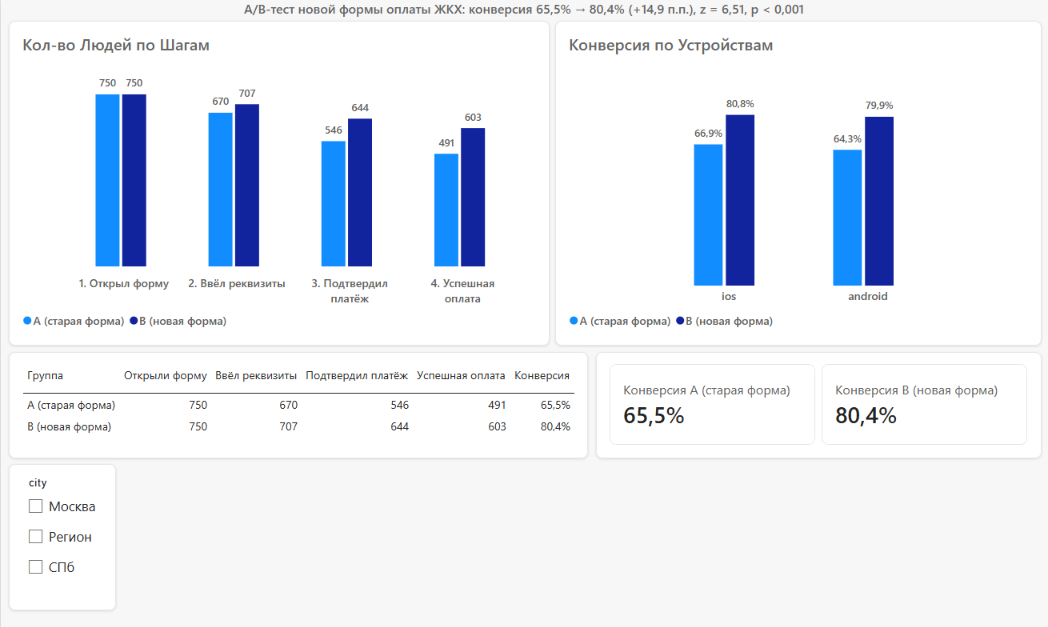

The page's visual inventory and layout, read from the dashboard file:
{"tool":"powerbi","page":{"name":"Страница 1","canvas":[1920,1080],"ordinal":0},"visuals":[{"type":"tableEx","fields":{"Values":["payments.Группа","payments.Открыли форму","payments.Ввёл реквизиты","payments.Подтвердил платёж","payments.Успешная оплата","DAX.Конверсия"]},"box":[10,440,724,133],"z":0},{"type":"clusteredColumnChart","title":"Кол-во Людей по Шагам ","fields":{"Category":["Воронка.Шаг"],"Series":["payments.Группа"],"Y":["DAX.Людей"]},"box":[10,26,676,406],"z":1000},{"type":"cardVisual","fields":{"Data":["DAX.Конверсия A","DAX.Конверсия B"]},"box":[744,440,557,133],"z":2000},{"type":"clusteredColumnChart","title":"Конверсия по Устройствам","fields":{"Category":["users.device_type"],"Y":["DAX.Конверсия A","DAX.Конверсия B"]},"box":[693,26,608,406],"z":3000},{"type":"slicer","fields":{"Values":["users.city"]},"box":[10,580,134,183],"z":4000},{"type":"textbox","box":[0,0,1308,26],"z":5000}]}

Visuals, with their boxes on the page's 1920x1080 design canvas (x1, y1, x2, y2). These are canvas units, not pixel positions in the 1048x627 screenshot, which may show the page scaled, cropped or inside an application window:
tableEx - payments.Группа x payments.Открыли форму: [10, 440, 734, 573]
"Кол-во Людей по Шагам " clusteredColumnChart: [10, 26, 686, 432]
cardVisual - DAX.Конверсия A x DAX.Конверсия B: [744, 440, 1301, 573]
"Конверсия по Устройствам" clusteredColumnChart: [693, 26, 1301, 432]
slicer - users.city: [10, 580, 144, 763]
textbox: [0, 0, 1308, 26]
